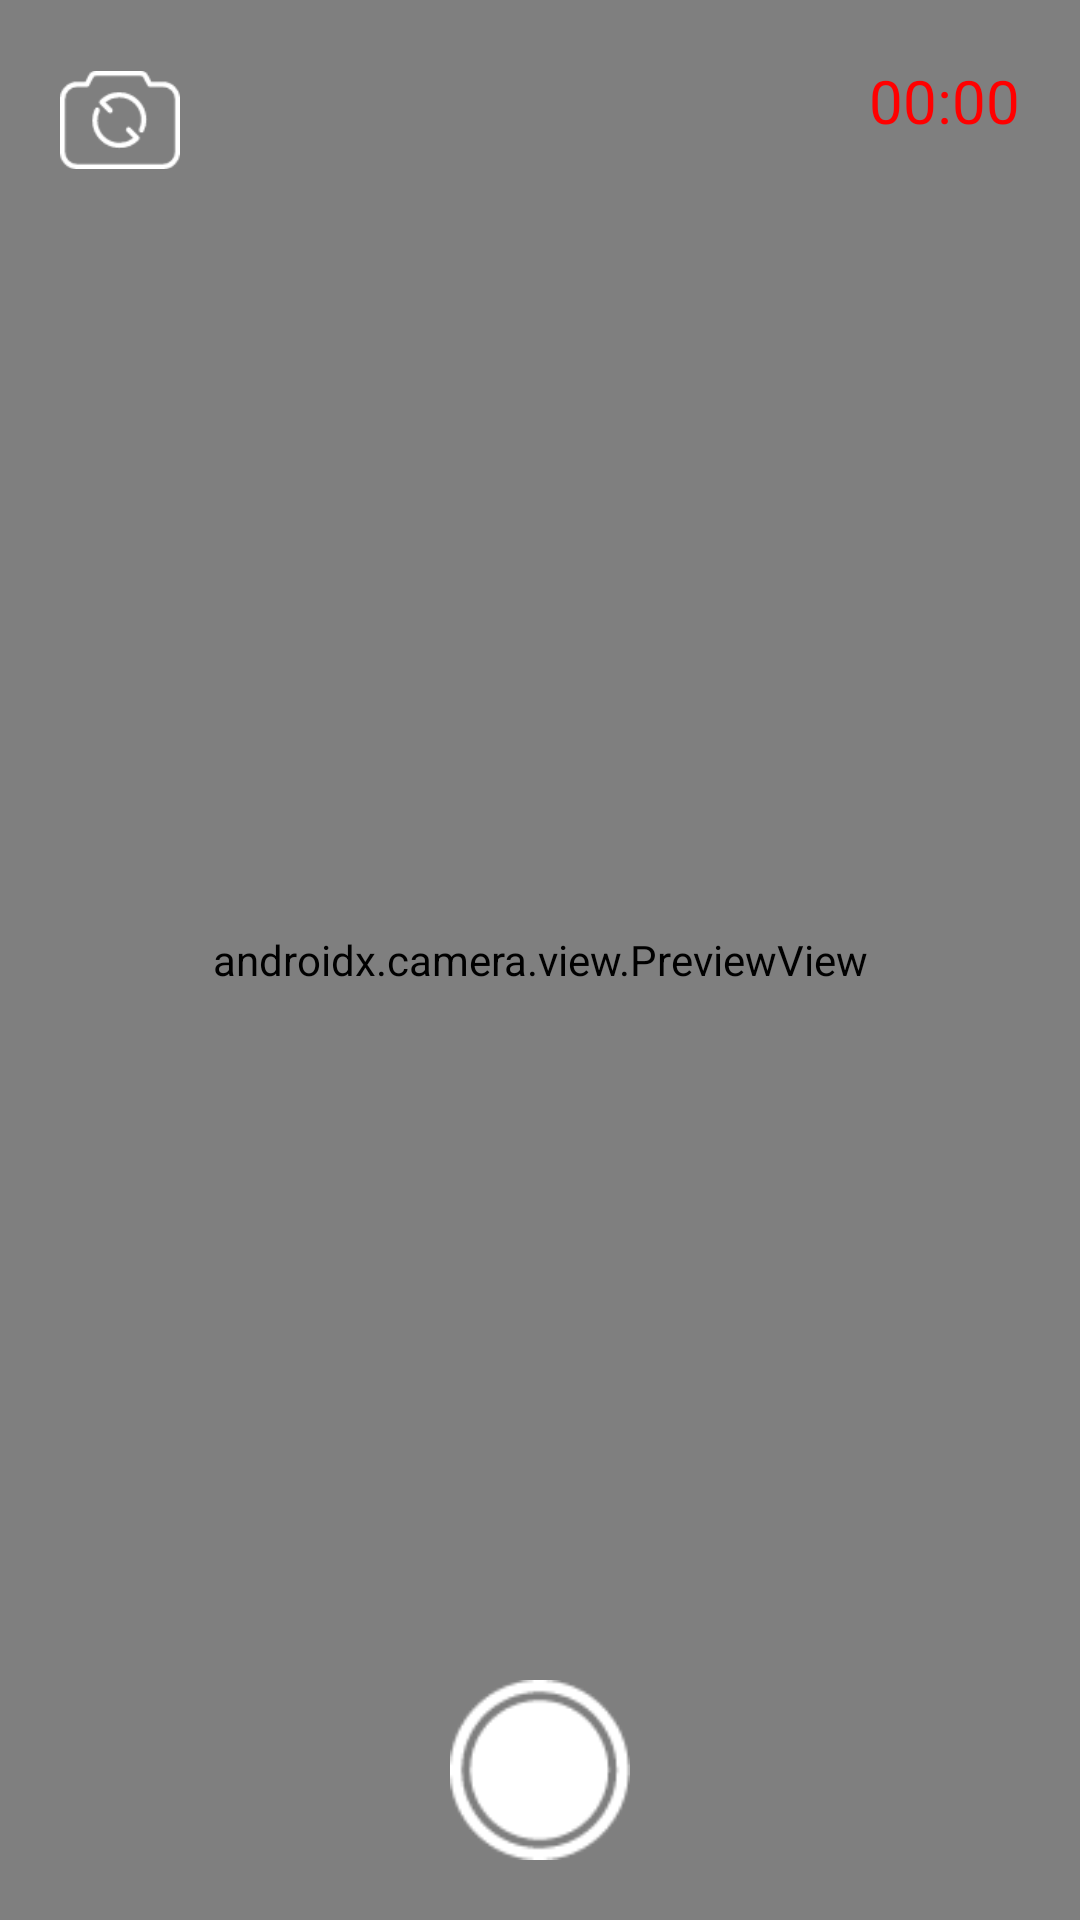

Icon bounding boxes for this 1080x1920 phone screenshot, format (x1, y1, x2, y2):
reverse: (60, 71, 180, 169)
